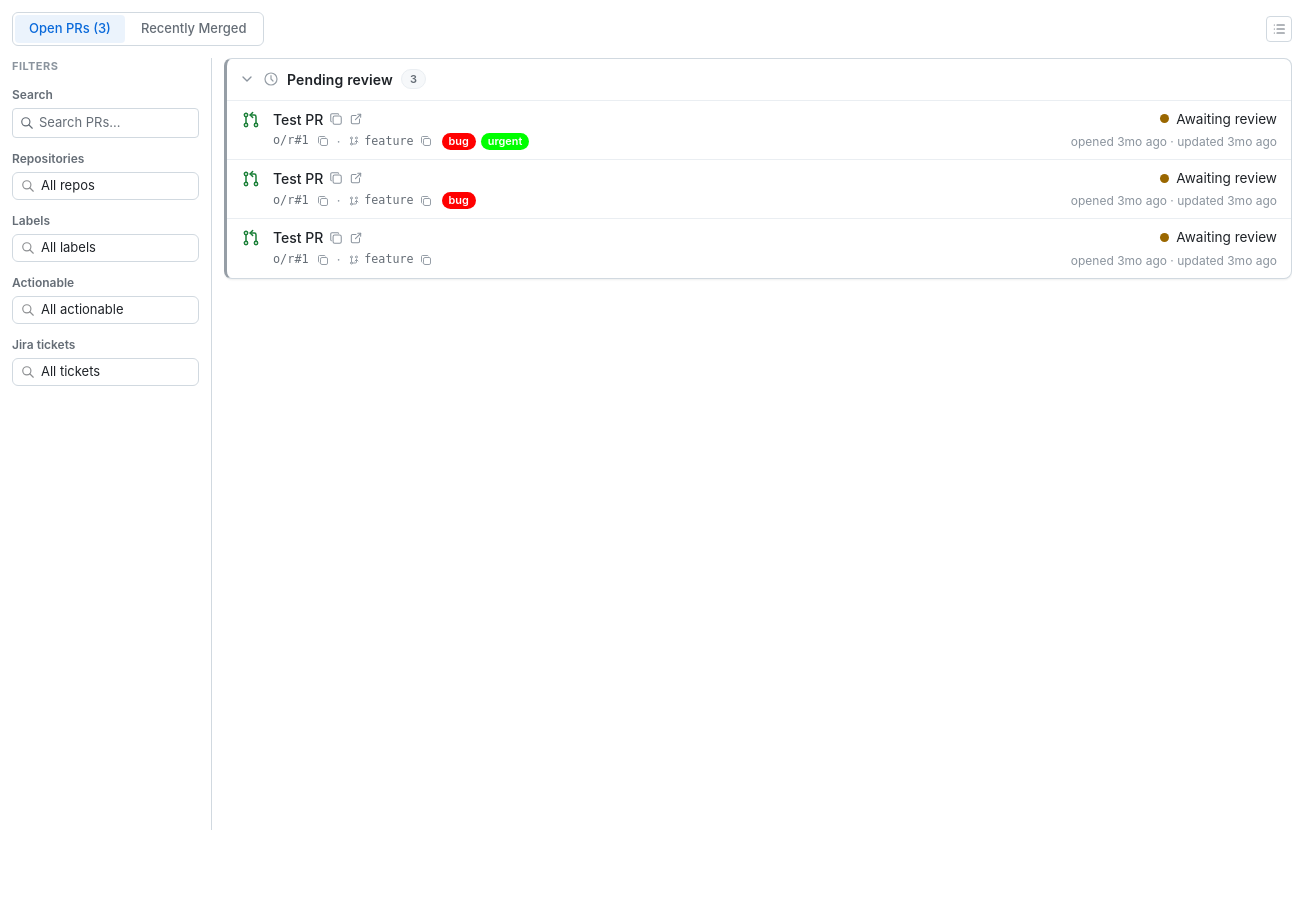
Test: PRsView sidebar filters › labels filter matches ALL selected labels (AND)
This screenshot has width=1304, height=912.
Expected: the button "Open PRs (3)" is shown, [15, 15, 125, 42]
Click the dropdown "All labels" at (106, 248), box [12, 234, 199, 262]
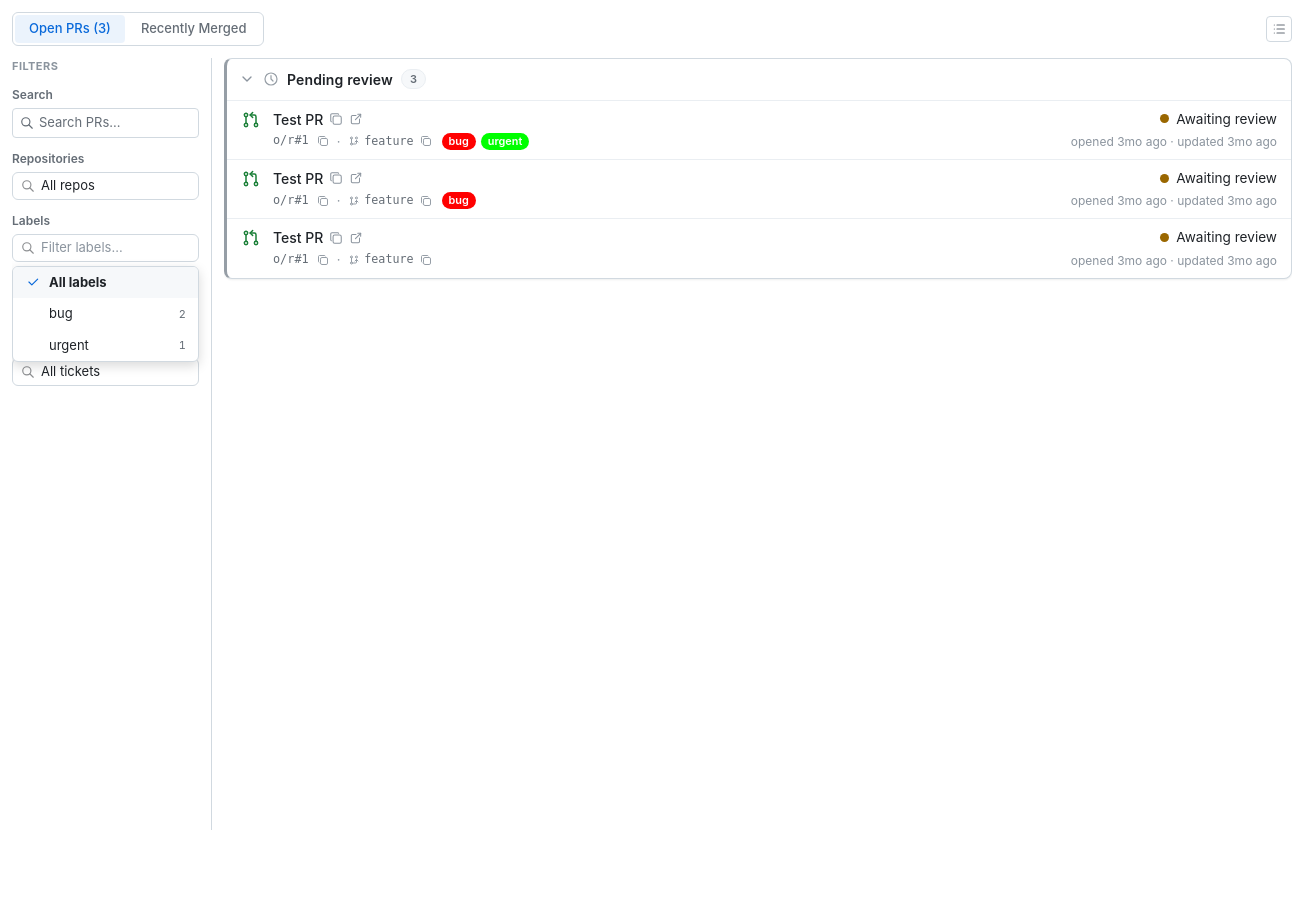
Press the mouse on the text "bug" at (61, 313), box [49, 305, 186, 321]
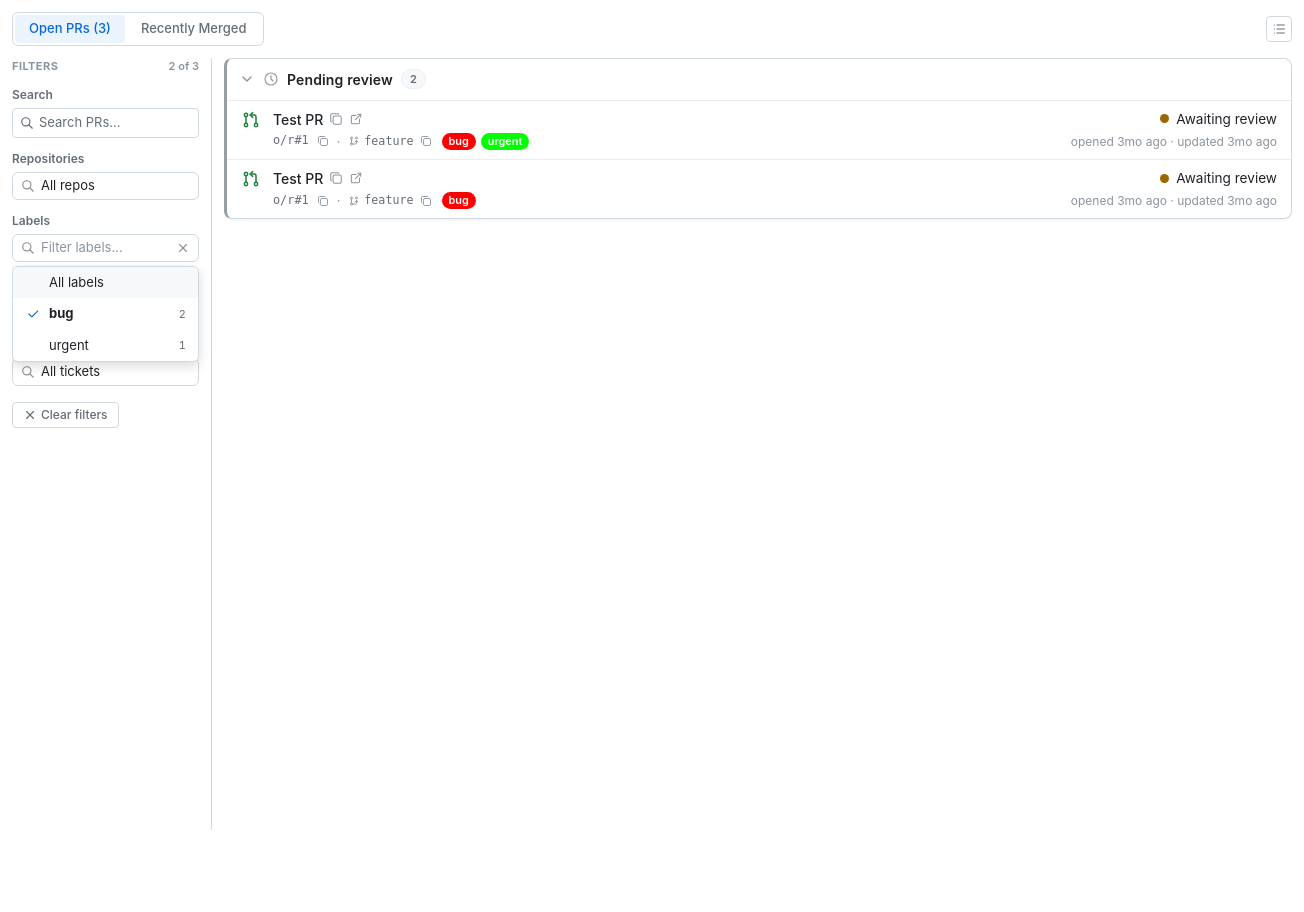
Now the text "2 of 3" is shown, box [169, 58, 199, 74]
Press the mouse on the text "urgent" at (69, 344), box [49, 336, 186, 352]
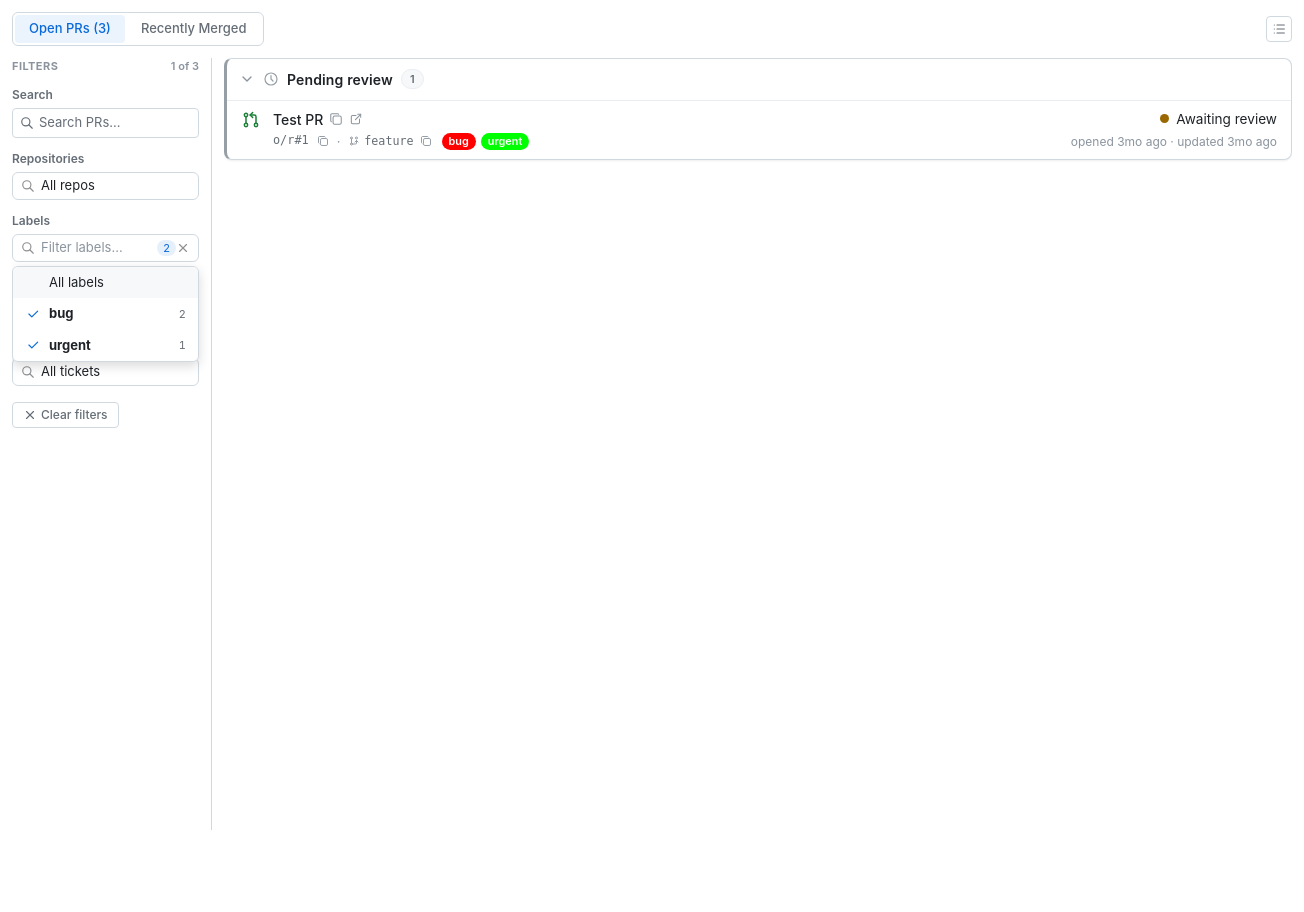
Now the text "1 of 3" is shown, box [171, 58, 199, 74]
